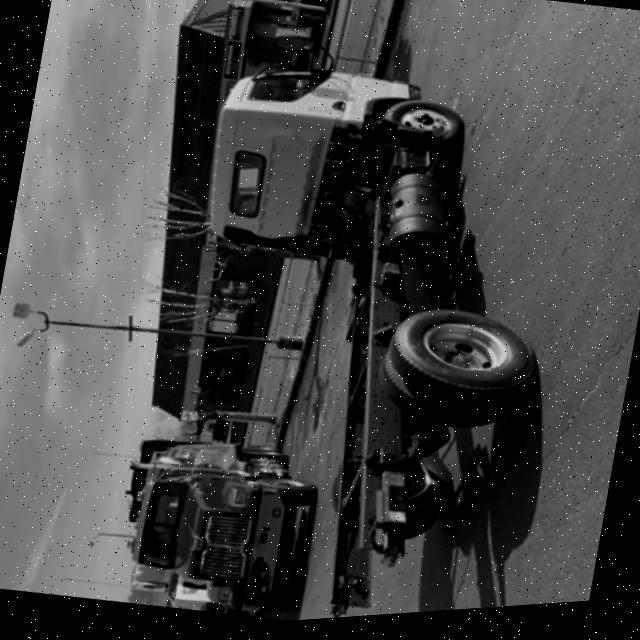truck: (129, 39, 601, 634), (100, 418, 324, 634)
